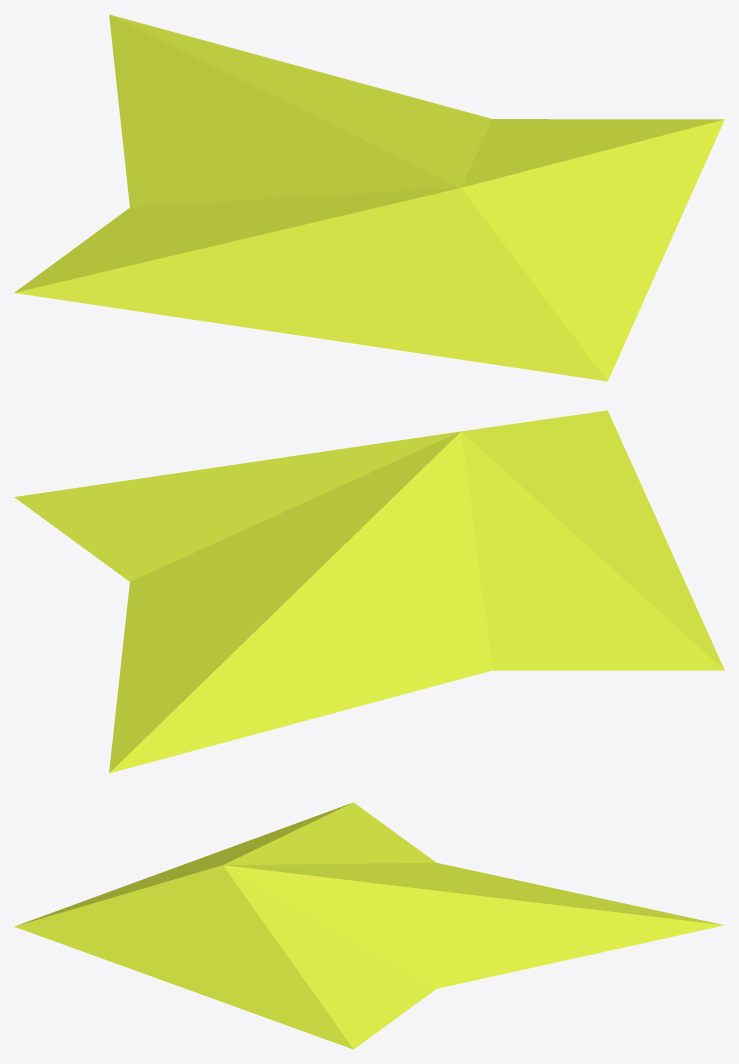
Rendered from nature_leaf-triangle.fbx.
3 renders of one model, top to bottom at view 1: azimuth 30°, elevation 25°; view 2: azimuth 150°, elevation 25°; view 3: azimuth 270°, elevation 25°, orthographic. The views are drawn at different scales.
Parts seen in each view (by area): view 1: nature_leaf_triangle; view 2: nature_leaf_triangle; view 3: nature_leaf_triangle.
Boxes of the visible parts, x1,y1,x2,y2 form: nature_leaf_triangle: [14, 14, 724, 381]; nature_leaf_triangle: [14, 410, 724, 773]; nature_leaf_triangle: [14, 802, 724, 1049].
Bounding box in the file's own units: 165 × 37.96 × 200.
